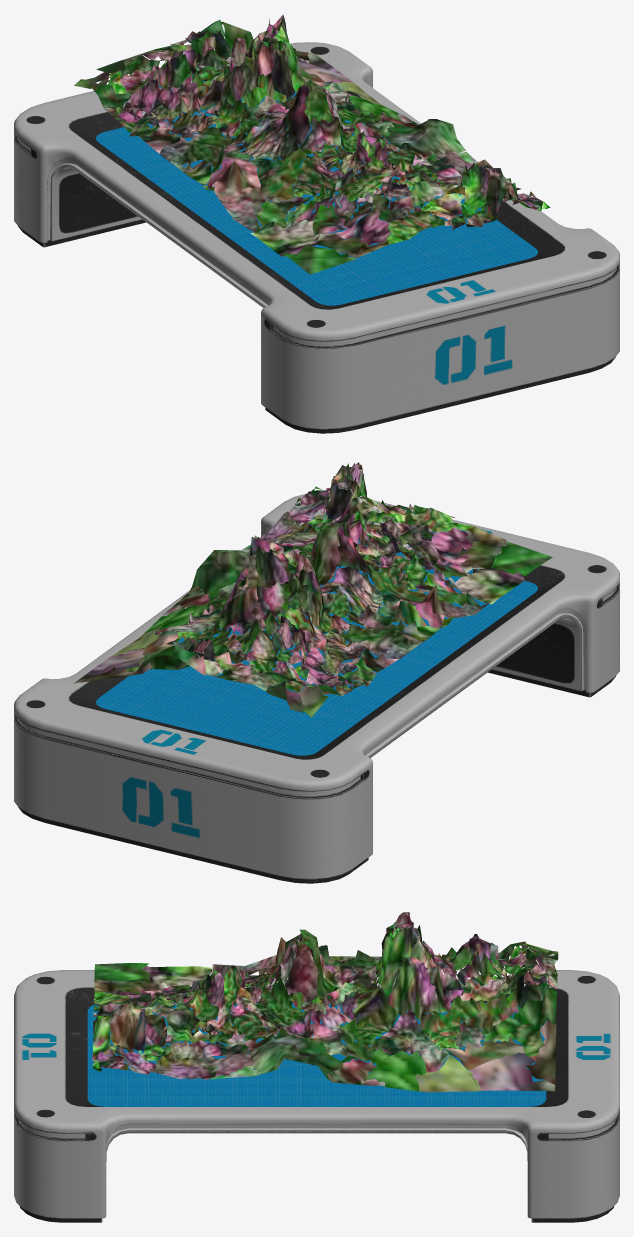
The model's file is table3.obj.
The picture shows the model from 3 angles, top to bottom: view 1: azimuth 30°, elevation 25°; view 2: azimuth 150°, elevation 25°; view 3: azimuth 270°, elevation 25°; orthographic projection. The views are drawn at different scales.
Parts seen in each view (by area): view 1: table_briefing, Hologram; view 2: table_briefing, Hologram; view 3: table_briefing, Hologram.
Boxes of the visible parts, x1,y1,x2,y2 form: table_briefing: (14, 42, 619, 433); Hologram: (74, 14, 549, 274); table_briefing: (14, 494, 619, 883); Hologram: (73, 462, 552, 717); table_briefing: (14, 970, 619, 1222); Hologram: (92, 912, 558, 1092).
Bounding box in the file's own units: 2.91 × 1.96 × 4.72.
Materials: 2 (2 with a texture image).
